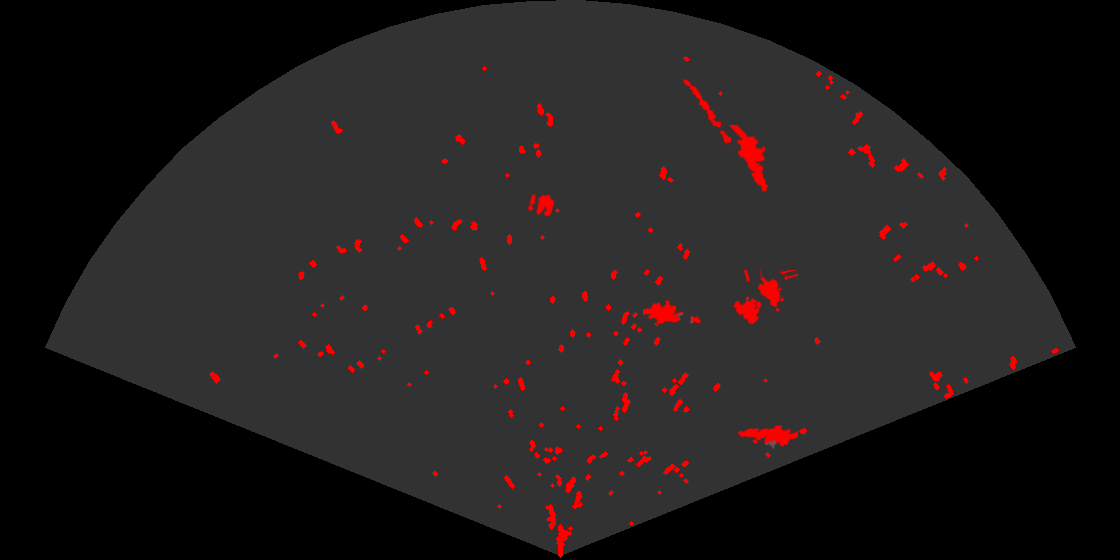ball: (526, 192, 556, 218)
cage: (731, 270, 798, 326)
chain: (681, 77, 736, 149)
frogman: (727, 125, 770, 194), (643, 298, 703, 326), (736, 423, 798, 450)
